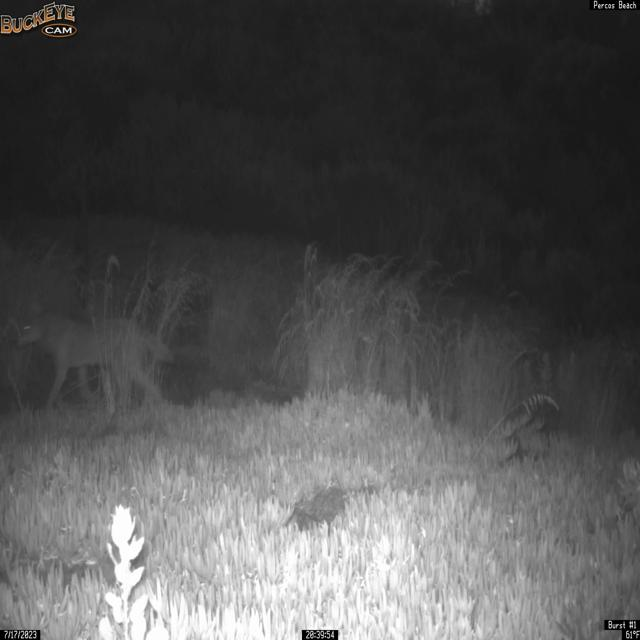coyote: (15, 303, 176, 412)
